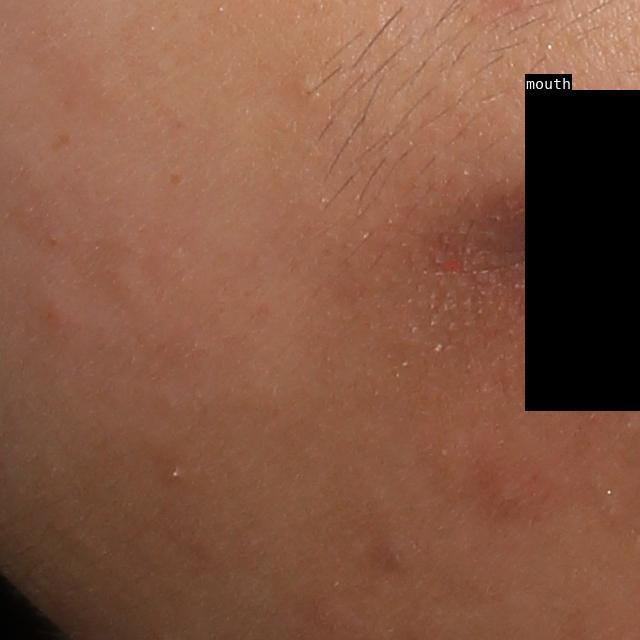comedo: (295, 73, 321, 106)
